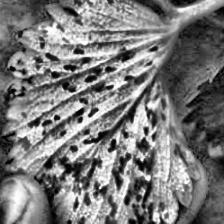Angular Leafspot: (0, 0, 202, 224)
